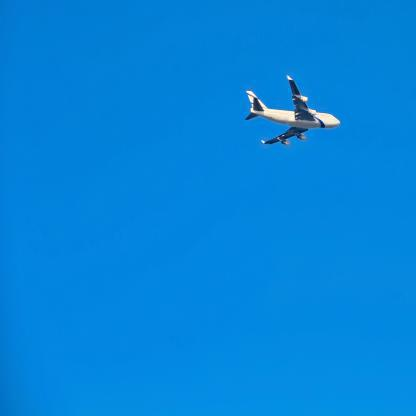CIV_Plane: (238, 69, 341, 155)
